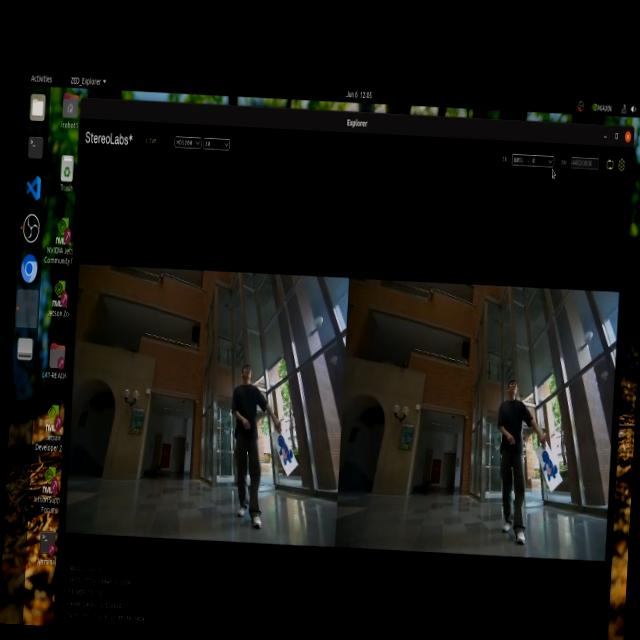blue: (272, 433, 306, 474), (533, 444, 558, 494)
